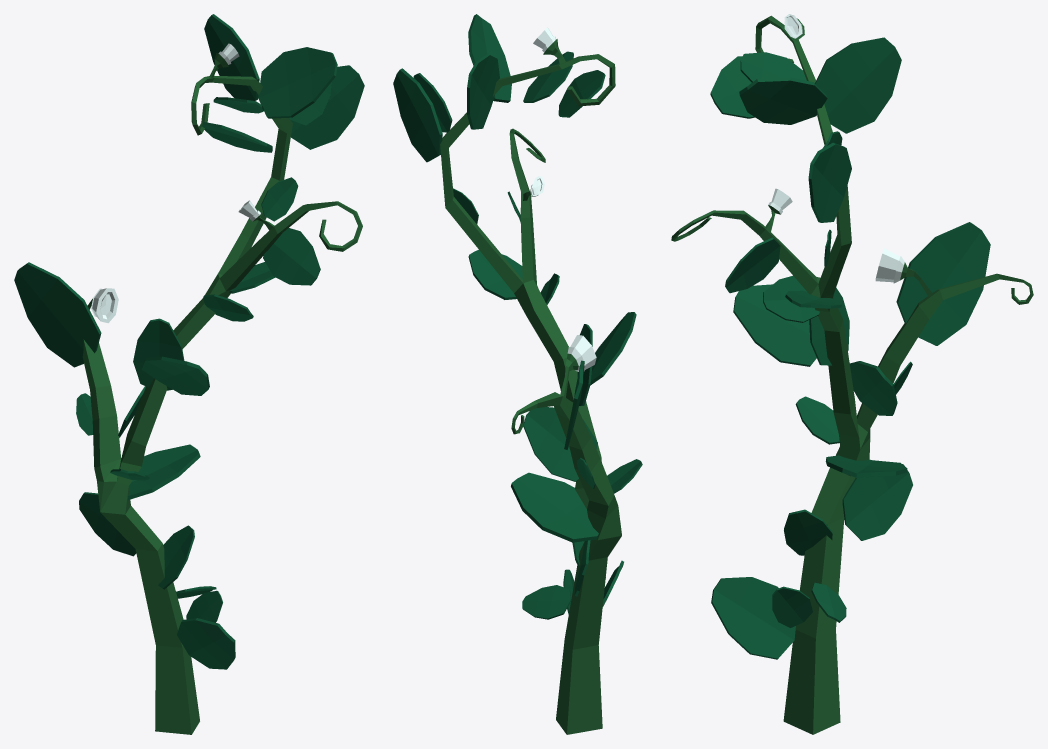
File: 1-3_pea.glb
3 renders of one model, left to right at view 1: azimuth 30°, elevation 25°; view 2: azimuth 150°, elevation 25°; view 3: azimuth 270°, elevation 25°, orthographic. The views are drawn at different scales.
Parts seen in each view (by area): view 1: pea.002; view 2: pea.002; view 3: pea.002.
Boxes of the visible parts, x1=… form: pea.002: x1=14, y1=14, x2=364, y2=734; pea.002: x1=393, y1=14, x2=642, y2=734; pea.002: x1=671, y1=14, x2=1033, y2=734.
Size of the model in its own units: 0.5025 by 1.22 by 0.5467.
